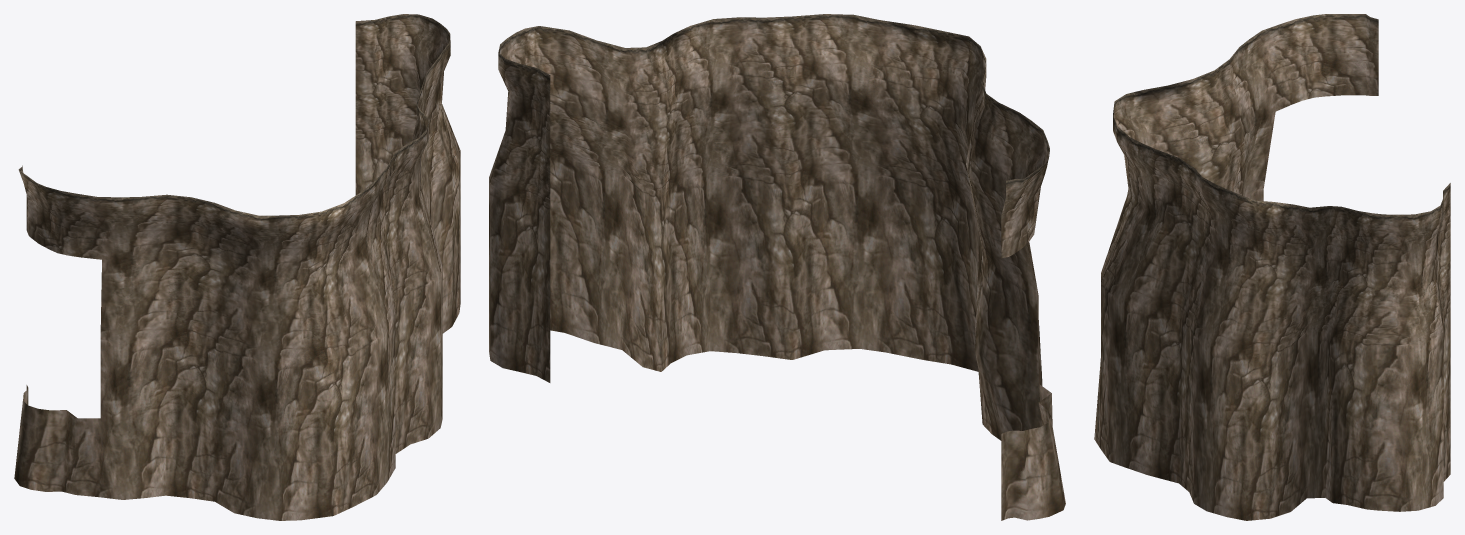
File: OVERHILL_A_01_OBJECT52.fbx
3 renders of one model, left to right at view 1: azimuth 30°, elevation 25°; view 2: azimuth 150°, elevation 25°; view 3: azimuth 270°, elevation 25°, orthographic. The views are drawn at different scales.
Parts seen in each view (by area): view 1: OVERHILL_A_01_OBJECT52; view 2: OVERHILL_A_01_OBJECT52; view 3: OVERHILL_A_01_OBJECT52.
Part boxes in pixels (box(x1,y1,x2,y2)): OVERHILL_A_01_OBJECT52: box(14, 14, 460, 520); OVERHILL_A_01_OBJECT52: box(489, 14, 1065, 520); OVERHILL_A_01_OBJECT52: box(1094, 14, 1450, 520).
Bounding box in the file's own units: 336200 × 229725 × 206958.
Materials: 2 (2 with a texture image).
